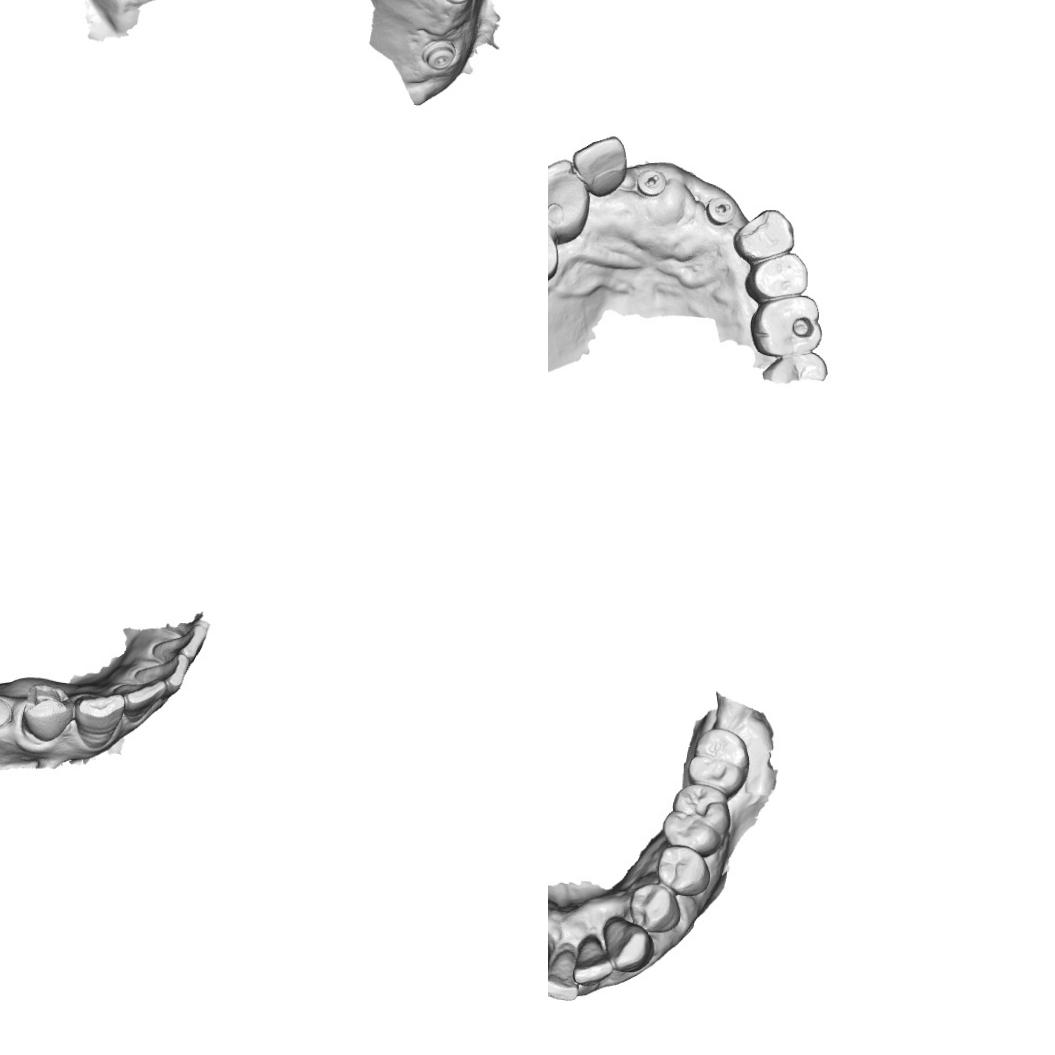canine: (548, 156, 592, 244), (600, 915, 655, 974), (74, 690, 126, 751), (668, 170, 705, 212)
implant: (420, 39, 464, 80), (0, 694, 13, 732)
implant_minus: (634, 166, 668, 198), (702, 195, 736, 226)
incisor: (570, 133, 628, 198), (571, 934, 615, 988), (148, 622, 209, 660), (119, 676, 167, 723), (133, 650, 192, 688), (548, 948, 580, 1002)
molar: (660, 782, 732, 858), (747, 292, 824, 359), (686, 726, 752, 794), (762, 351, 828, 380)
premolar: (732, 207, 796, 265), (743, 250, 809, 303), (18, 682, 73, 744), (655, 844, 712, 898), (627, 881, 682, 934)
